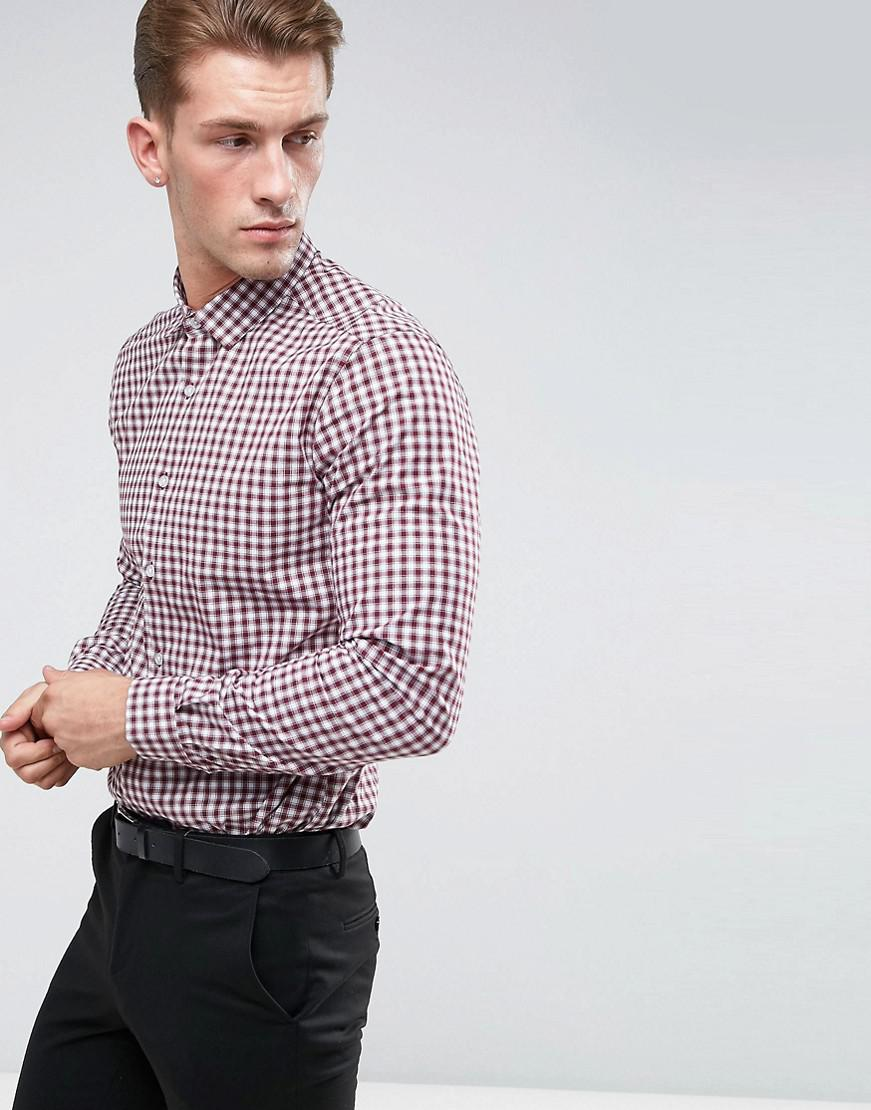teeshirt: (34, 237, 491, 842)
